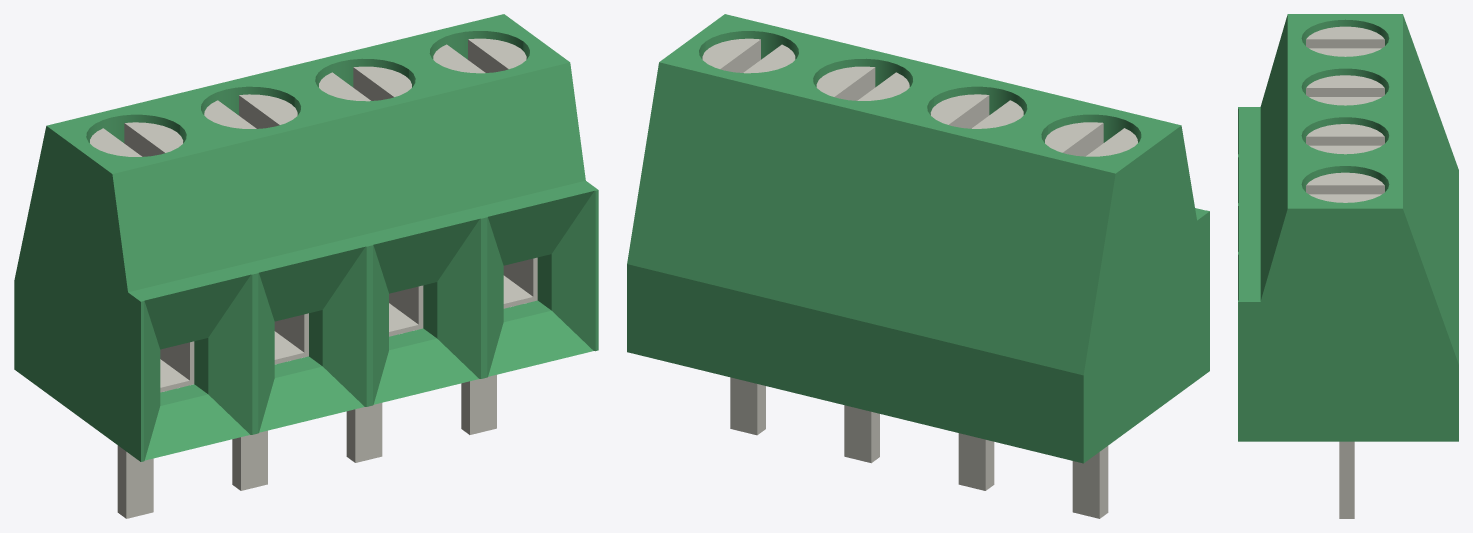
File: kc-terminalblock_phoenix_mkds-1-4-3.81_1x04_p3.81mm_horizontal.glb
3 views of the same model, side by side, from view 1: azimuth 30°, elevation 25°; view 2: azimuth 150°, elevation 25°; view 3: azimuth 270°, elevation 25° (orthographic). The views are drawn at different scales.
Parts seen in each view (by area): view 1: 0.08333333333333333_0.4166666666666667_0.16666666666666666_0, 0.6666666666666666_0.6666666666666666_0.5833333333333334_0.8; view 2: 0.08333333333333333_0.4166666666666667_0.16666666666666666_0, 0.6666666666666666_0.6666666666666666_0.5833333333333334_0.8; view 3: 0.08333333333333333_0.4166666666666667_0.16666666666666666_0, 0.6666666666666666_0.6666666666666666_0.5833333333333334_0.8.
Part boxes in pixels (x1=…): 0.08333333333333333_0.4166666666666667_0.16666666666666666_0: x1=14, y1=14, x2=598, y2=461; 0.6666666666666666_0.6666666666666666_0.5833333333333334_0.8: x1=90, y1=38, x2=537, y2=518; 0.08333333333333333_0.4166666666666667_0.16666666666666666_0: x1=627, y1=14, x2=1209, y2=463; 0.6666666666666666_0.6666666666666666_0.5833333333333334_0.8: x1=702, y1=38, x2=1137, y2=518; 0.08333333333333333_0.4166666666666667_0.16666666666666666_0: x1=1238, y1=14, x2=1458, y2=441; 0.6666666666666666_0.6666666666666666_0.5833333333333334_0.8: x1=1306, y1=26, x2=1384, y2=518.
Size of the model in its own units: 1.52 by 1.2 by 0.7301.
